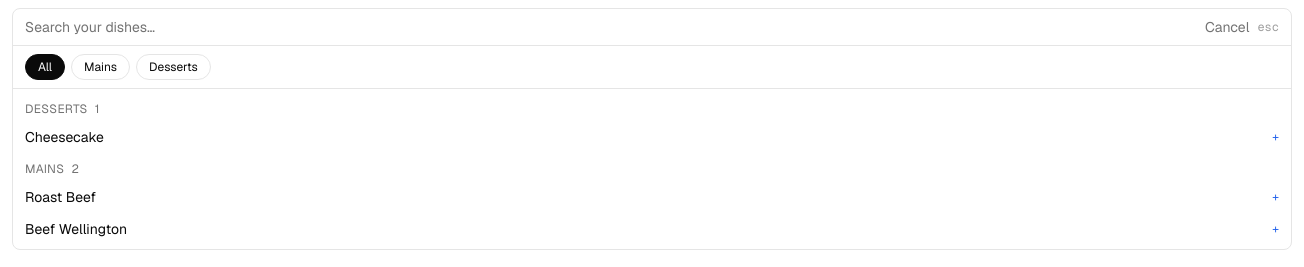
Test: DishPickerInline › tabs are All plus only the categories that have dishes
The image size is (1304, 267).
Click the button "Desserts" at (173, 67), box [136,54,211,80]
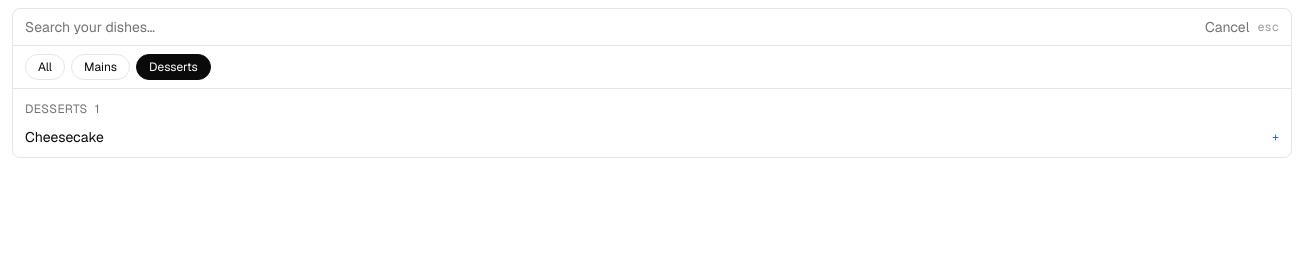
Expected: the button labelled "Cheesecake +" is shown, [13,121,1291,153]
Result: the button labelled "Roast Beef" is gone
